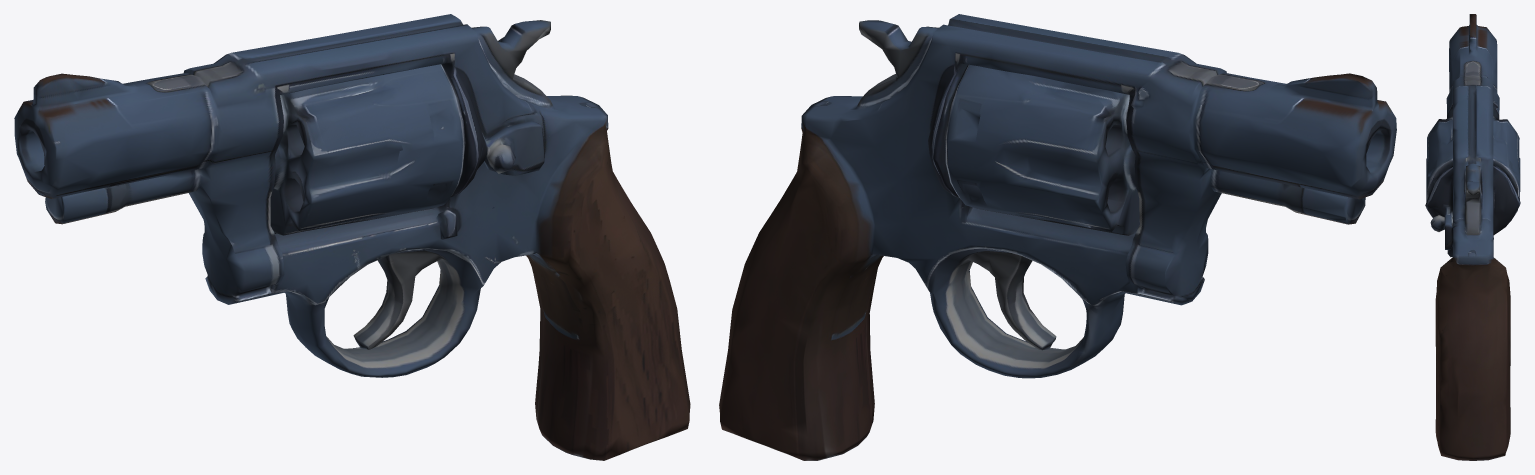
The model's file is Pistola_clara.glb.
3 renders of one model, left to right at view 1: azimuth 30°, elevation 25°; view 2: azimuth 150°, elevation 25°; view 3: azimuth 270°, elevation 25°, orthographic. The views are drawn at different scales.
Visible parts, largest first — view 1: tripo_node_9c09c97b-b540-4125-96b0-083585fd25f9; view 2: tripo_node_9c09c97b-b540-4125-96b0-083585fd25f9; view 3: tripo_node_9c09c97b-b540-4125-96b0-083585fd25f9.
Boxes of the visible parts, x1=… form: tripo_node_9c09c97b-b540-4125-96b0-083585fd25f9: x1=14, y1=14, x2=690, y2=460; tripo_node_9c09c97b-b540-4125-96b0-083585fd25f9: x1=719, y1=14, x2=1396, y2=460; tripo_node_9c09c97b-b540-4125-96b0-083585fd25f9: x1=1425, y1=14, x2=1520, y2=460.
Bounding box in the file's own units: 1 × 0.7228 × 0.2248.
Materials: 1 (1 with a texture image).
